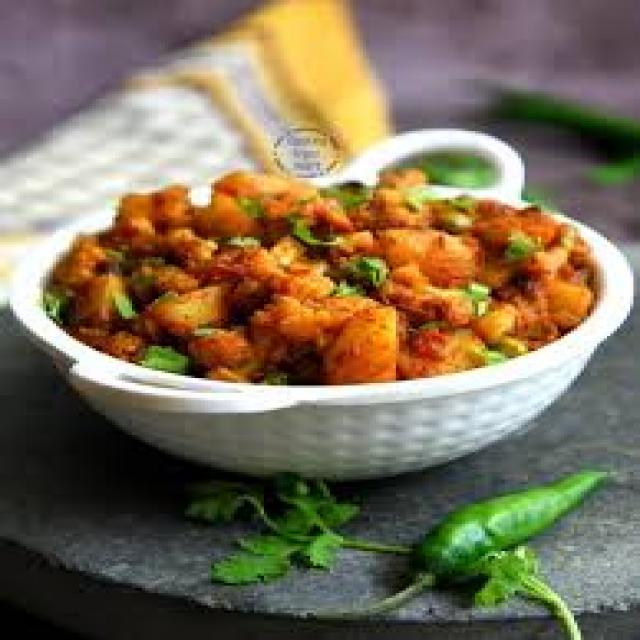Aloo Gobi: (64, 173, 624, 415)
